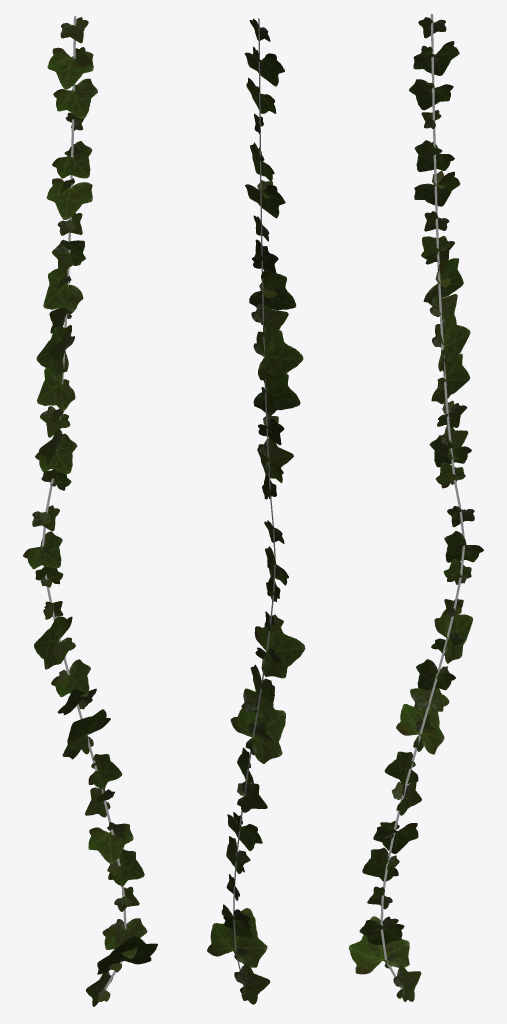
The model's file is SM_Ivy_BezierCurve_012.fbx.
The picture shows the model from 3 angles, left to right: view 1: azimuth 90°, elevation 25°; view 2: azimuth 210°, elevation 25°; view 3: azimuth 270°, elevation 25°; orthographic projection.
Parts seen in each view (by area): view 1: SM_Ivy_BezierCurve_012_LOD0; view 2: SM_Ivy_BezierCurve_012_LOD0; view 3: SM_Ivy_BezierCurve_012_LOD0.
Boxes of the visible parts, x1,y1,x2,y2 form: SM_Ivy_BezierCurve_012_LOD0: (23, 16, 157, 1006); SM_Ivy_BezierCurve_012_LOD0: (207, 18, 305, 1004); SM_Ivy_BezierCurve_012_LOD0: (348, 14, 483, 1001).
Size of the model in its own units: 7.39 by 18.3 by 131.
